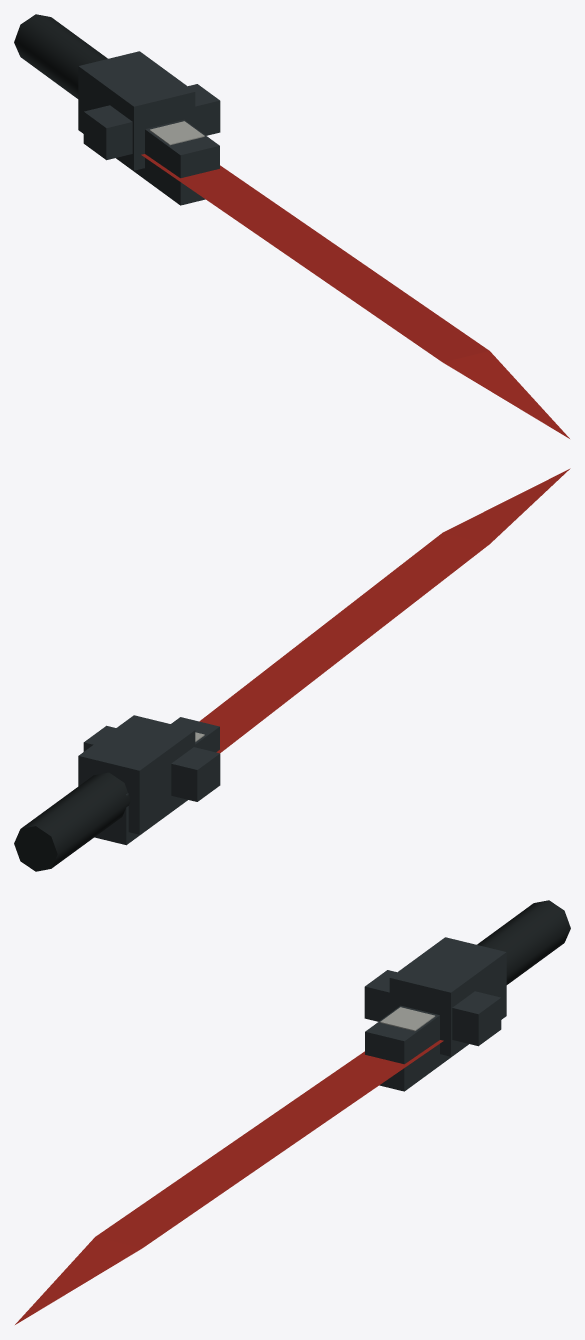
3 views of the same model, one above another, from view 1: azimuth 30°, elevation 25°; view 2: azimuth 150°, elevation 25°; view 3: azimuth 330°, elevation 25° (orthographic).
Parts seen in each view (by area): view 1: weapon-energy-sword-painted; view 2: weapon-energy-sword-painted; view 3: weapon-energy-sword-painted.
Boxes of the visible parts, x1,y1,x2,y2 form: weapon-energy-sword-painted: [14, 14, 569, 438]; weapon-energy-sword-painted: [14, 468, 570, 871]; weapon-energy-sword-painted: [15, 900, 570, 1324].
Size of the model in its own units: 0.6778 by 0.4353 by 5.53.
